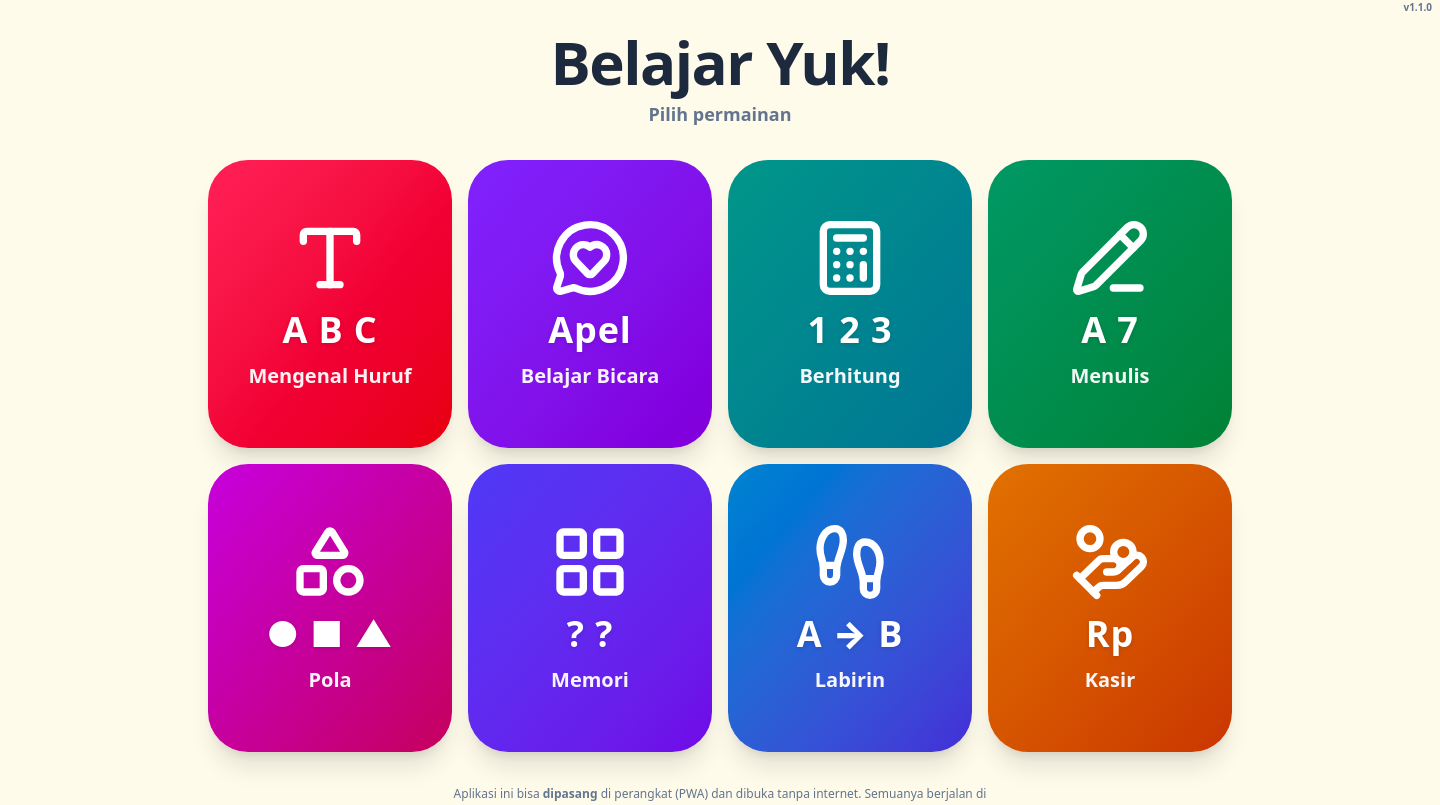
Test: Memori › opening it › opens on four face-down cards and goes home again
What coordinates should you click on to do the following:
click the button "? ? Memori"
I would click on:
 (590, 608)
Its box is [468,464,712,752].
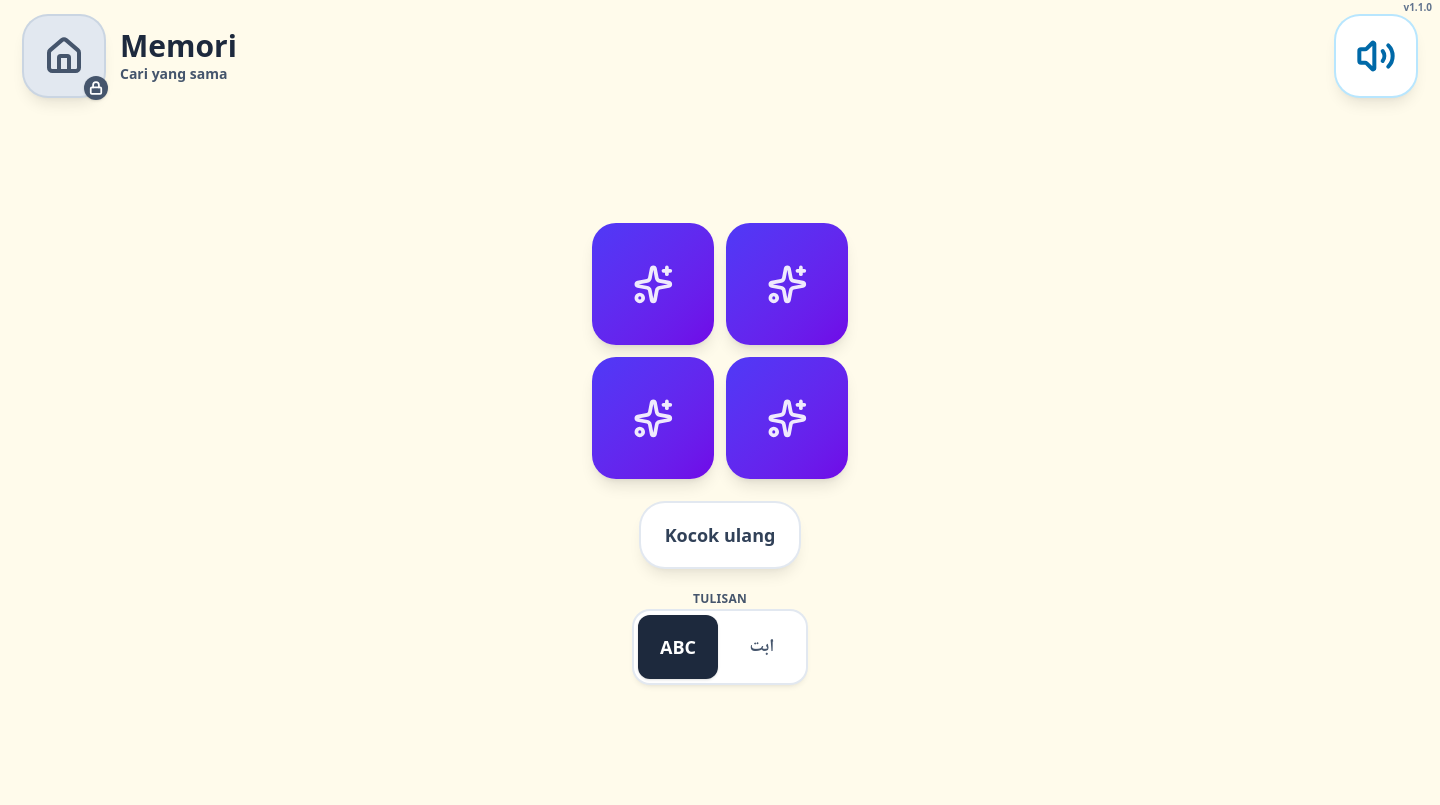
Expected: the heading "Memori" is shown, [120,25,237,66]
What coordinates should you click on to do the following:
click the button named "Kembali ke menu utama"
I would click on:
 (64, 56)
Its box is [24,16,104,96].
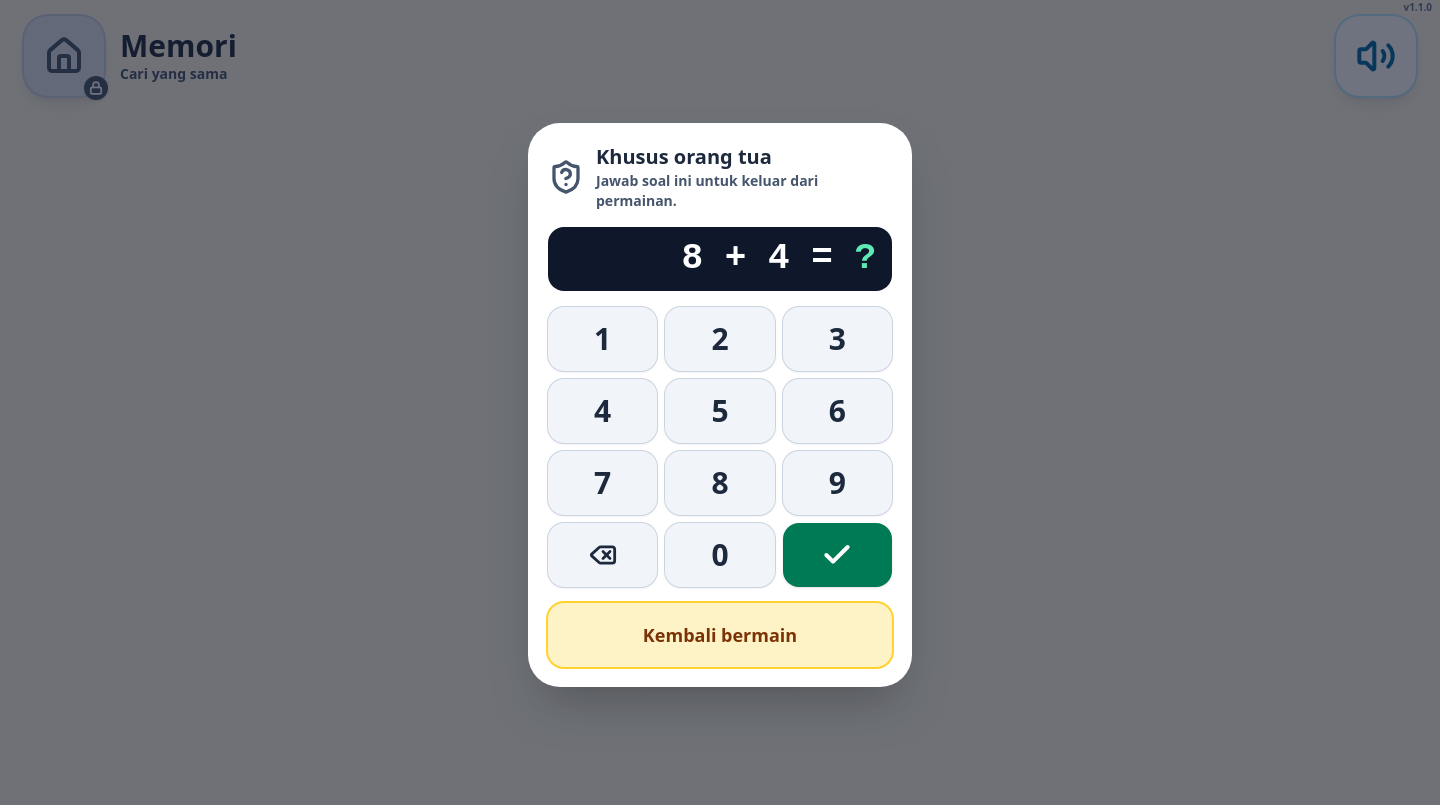
What coordinates should you click on to do the following:
click the button "1"
I would click on:
 (603, 339)
Its box is [548,307,657,371].
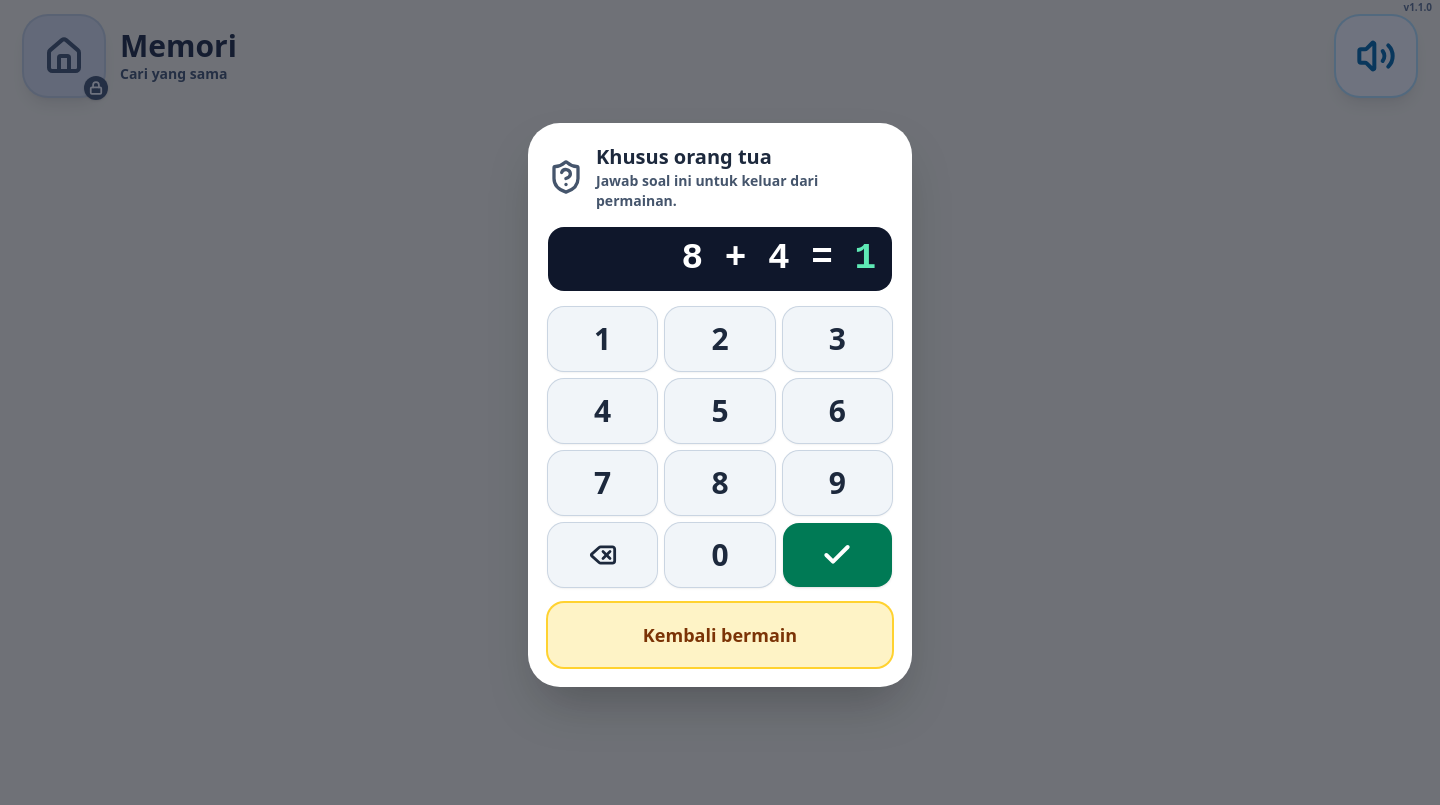
What coordinates should you click on to do the following:
click the button "2"
I would click on:
 (720, 339)
Its box is [665,307,775,371].
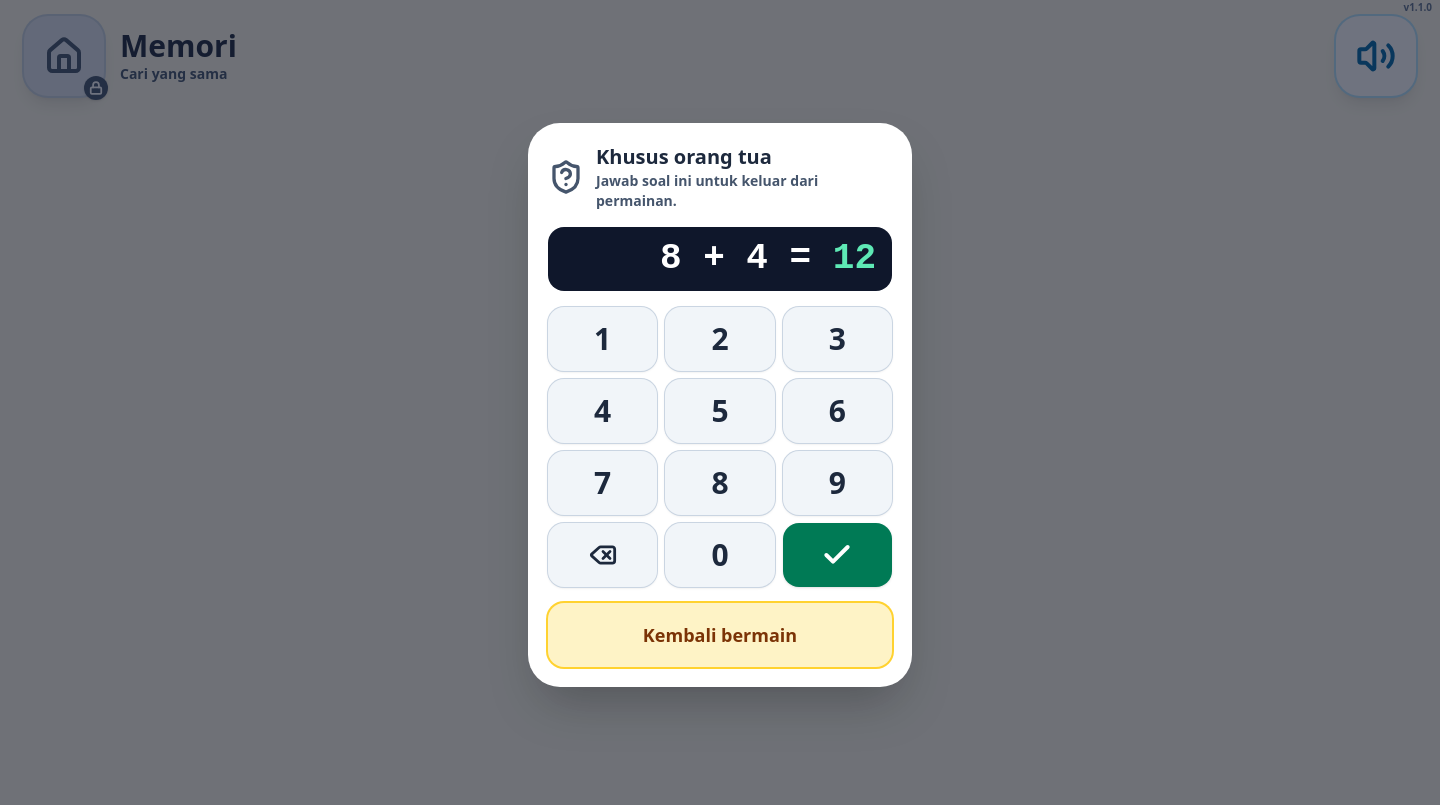
What coordinates should you click on to do the following:
click the button named "Periksa jawaban"
I would click on:
 (837, 555)
Its box is [783,523,892,587].
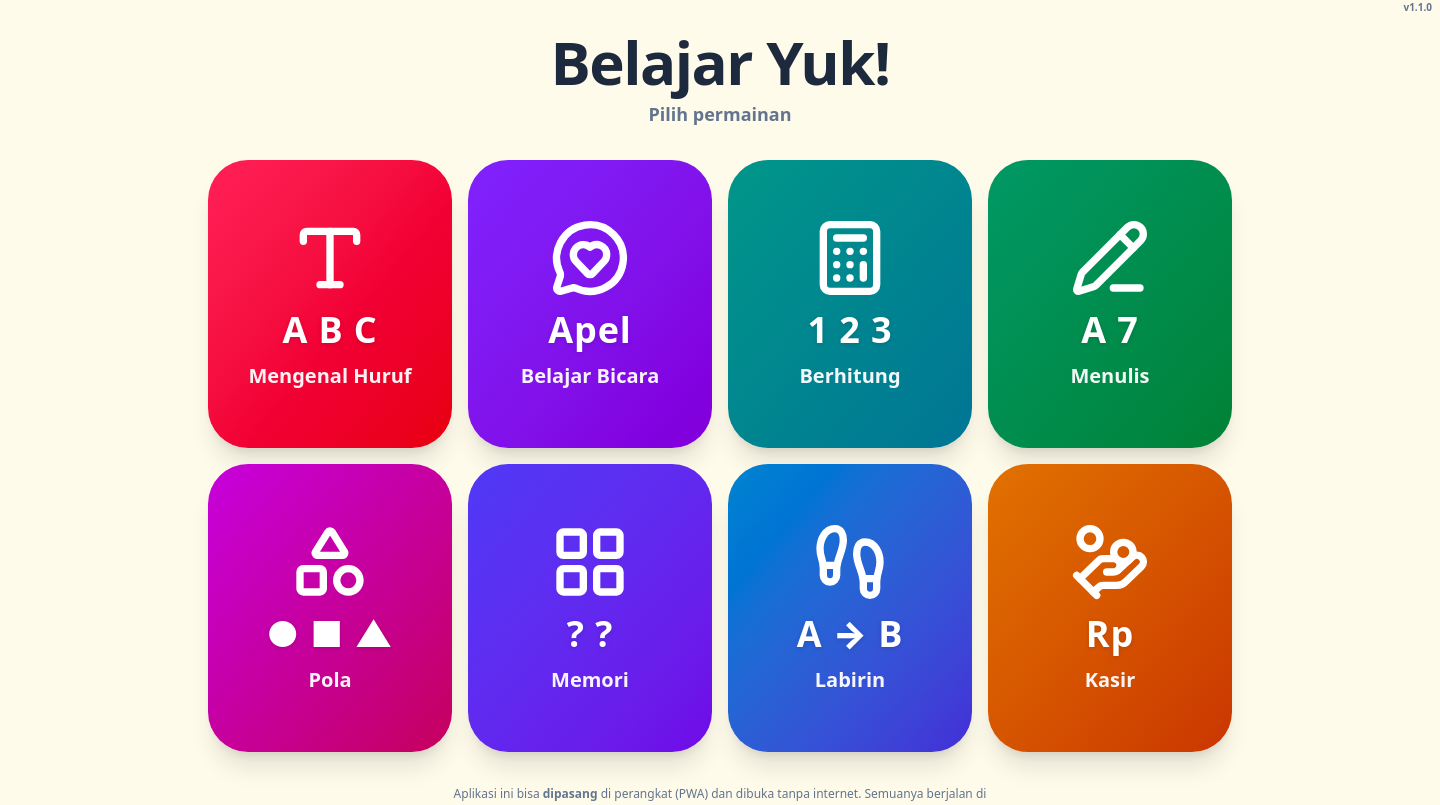
Now the heading "Belajar Yuk!" is shown, box [550,32,890,92]
